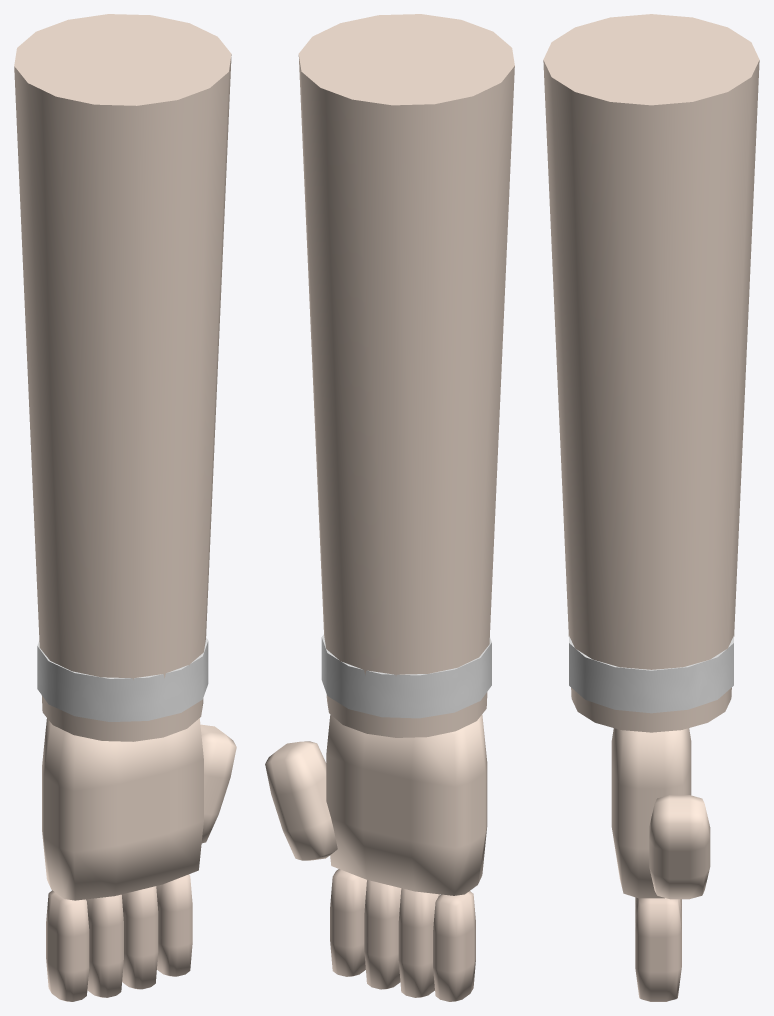
Rendered from person_larm_l.glb.
3 views of the same model, side by side, from view 1: azimuth 30°, elevation 25°; view 2: azimuth 150°, elevation 25°; view 3: azimuth 270°, elevation 25° (orthographic).
Parts seen in each view (by area): view 1: person_larm_l_body; view 2: person_larm_l_body; view 3: person_larm_l_body.
Part boxes in pixels (bbox=[...]): person_larm_l_body: bbox=[14, 14, 236, 1001]; person_larm_l_body: bbox=[265, 14, 514, 1001]; person_larm_l_body: bbox=[543, 14, 759, 1001].
Size of the model in its own units: 0.1039 by 0.4314 by 0.092.
Materials: 3 (1 with a texture image).
